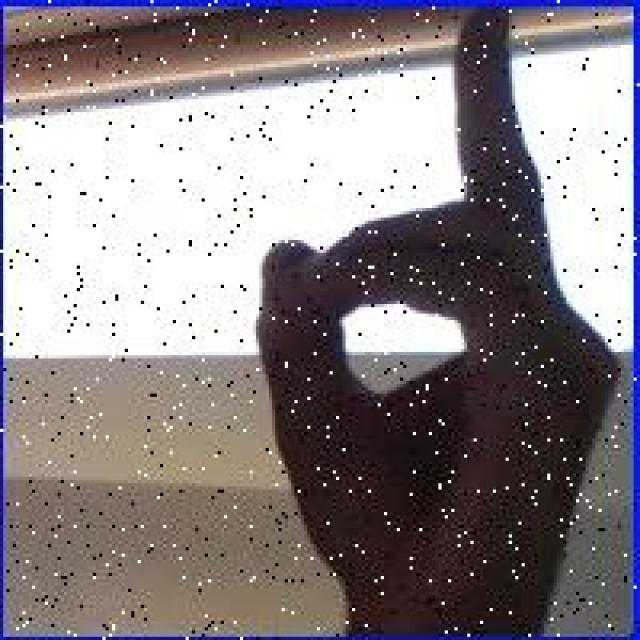D: (251, 8, 626, 635)
